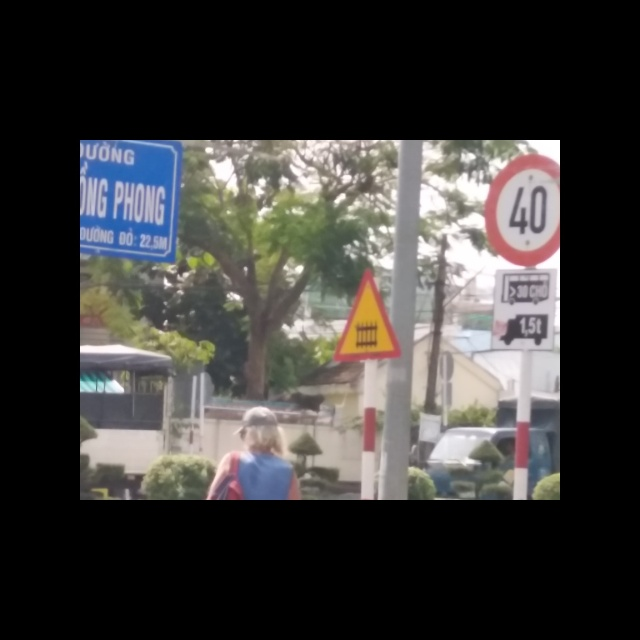Giao nhau với đường sắt có rào chắn: (333, 271, 403, 364)
